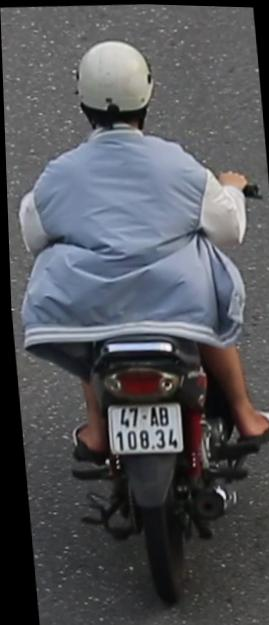LP: (93, 387, 185, 458)
helmet: (68, 36, 163, 145)
